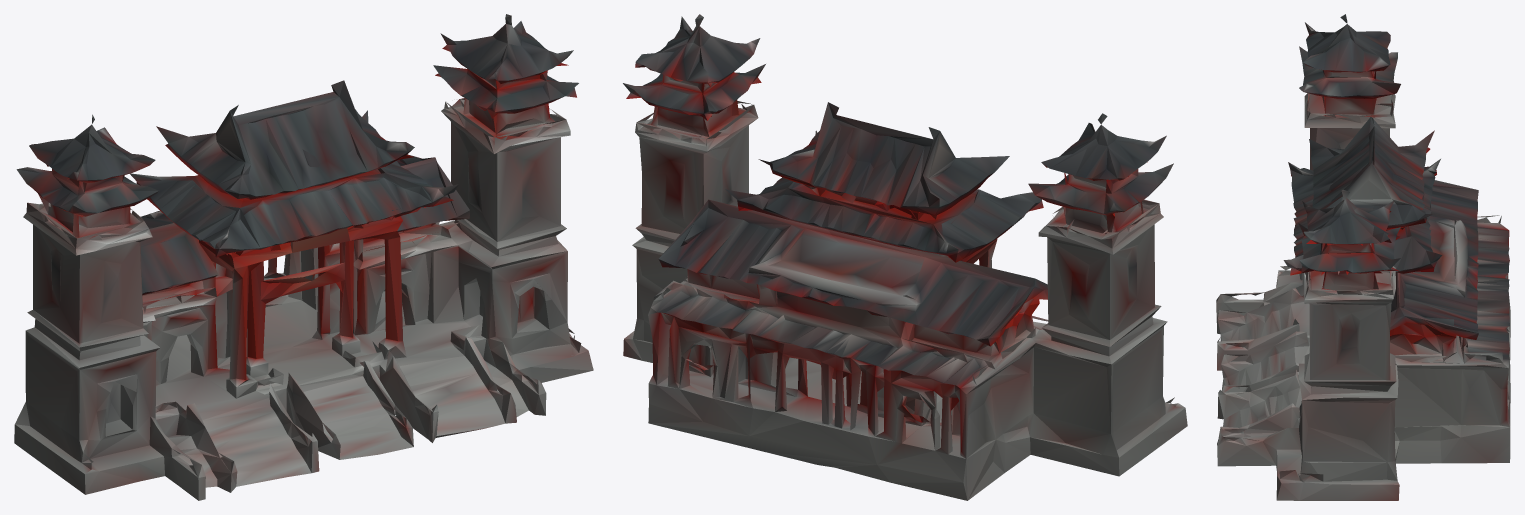
File: sect_gate_grand.vc.glb
The picture shows the model from 3 angles, left to right: view 1: azimuth 30°, elevation 25°; view 2: azimuth 150°, elevation 25°; view 3: azimuth 270°, elevation 25°; orthographic projection. The views are drawn at different scales.
Parts seen in each view (by area): view 1: sect_gate_grand; view 2: sect_gate_grand; view 3: sect_gate_grand.
Part boxes in pixels (box(x1,y1,x2,y2)): sect_gate_grand: box(14, 14, 593, 500); sect_gate_grand: box(623, 14, 1187, 500); sect_gate_grand: box(1216, 14, 1510, 500).
Size of the model in its own units: 1.89 by 1.2 by 1.1.
